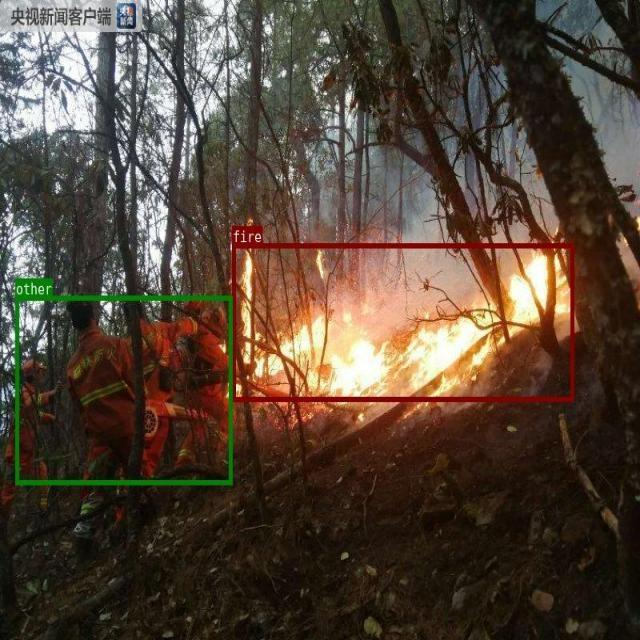fire: (232, 243, 574, 401)
